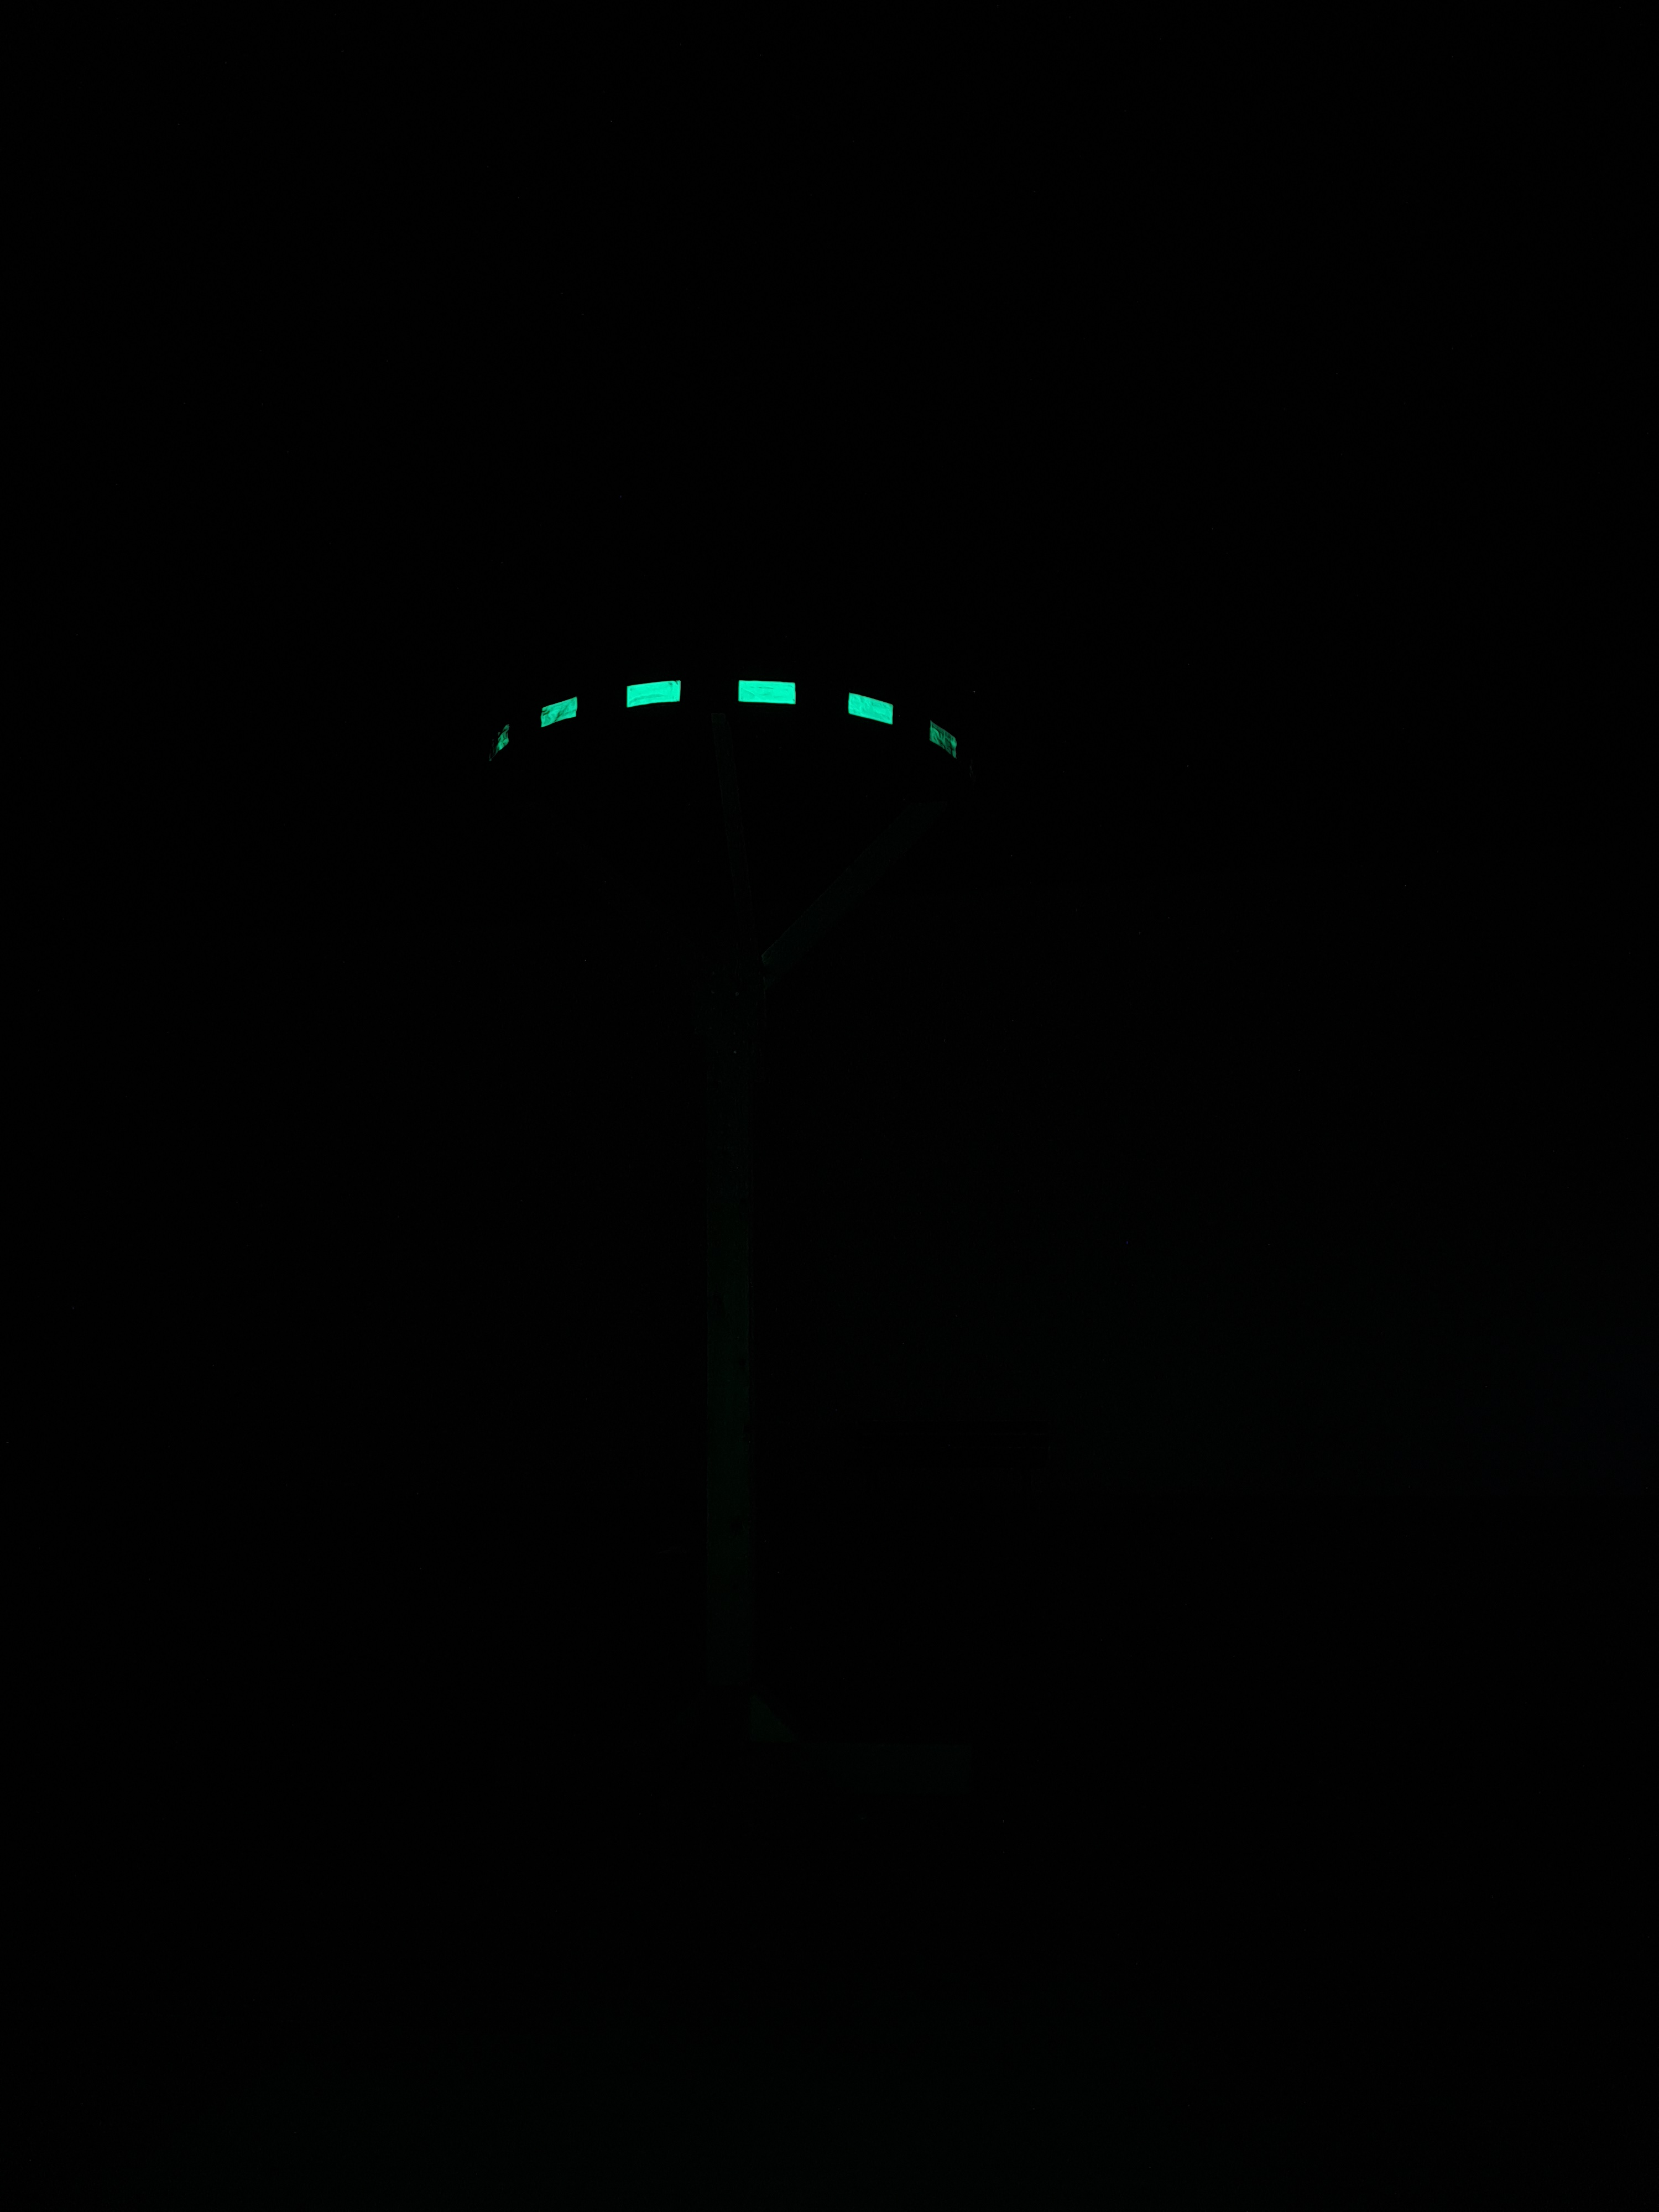hoop: (483, 672, 962, 775)
